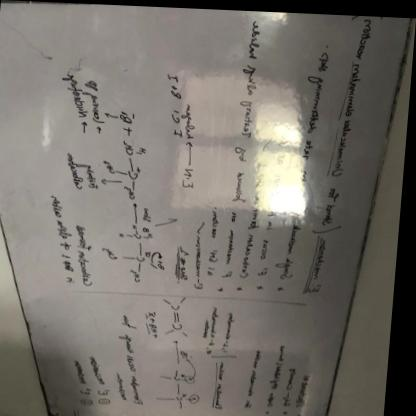Handwritten text: (275, 40, 337, 284), (316, 11, 381, 229), (223, 15, 268, 267), (240, 165, 272, 281), (74, 220, 99, 290)
Whiteboard: (0, 3, 413, 416)
